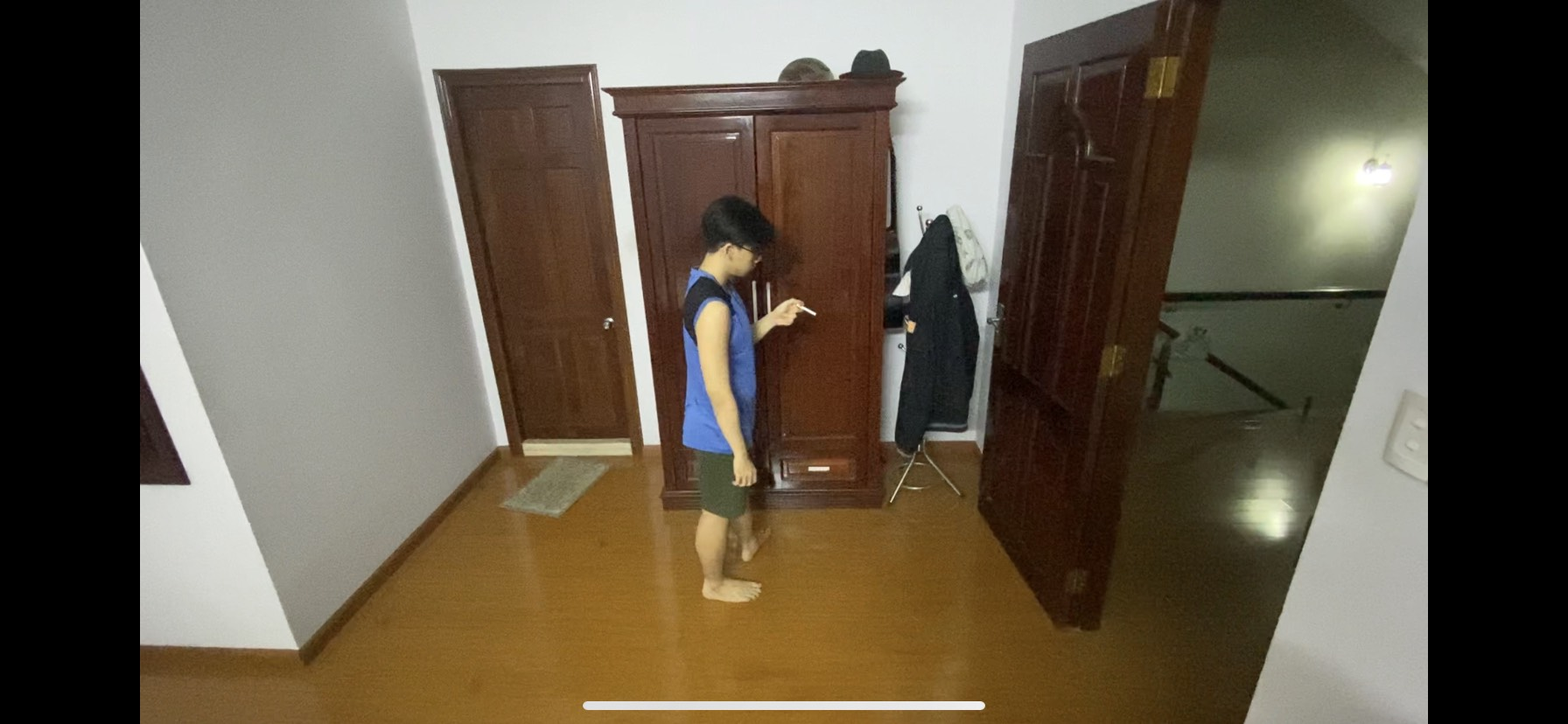cigarette: (802, 303, 817, 318)
person: (648, 184, 823, 607)
